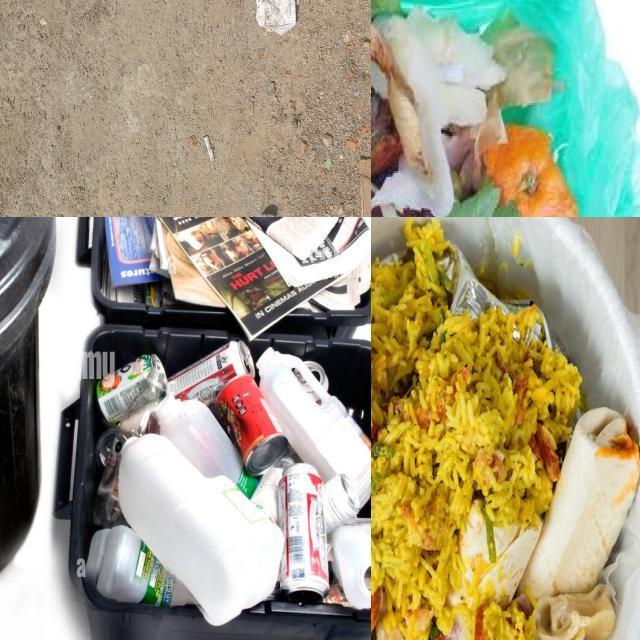Cig_bud: (203, 136, 214, 160)
Garbage: (371, 217, 640, 640), (84, 342, 371, 624), (371, 0, 588, 217)
Plastic_Container: (119, 434, 284, 626), (259, 350, 371, 506), (85, 525, 196, 606), (154, 393, 244, 484), (331, 517, 371, 610), (251, 456, 294, 524)
Plastic_wraper: (448, 244, 532, 318), (532, 313, 566, 354)
Tin_box: (216, 375, 288, 476)
can: (279, 464, 330, 602), (168, 340, 254, 407), (96, 354, 151, 424), (322, 474, 360, 533)
